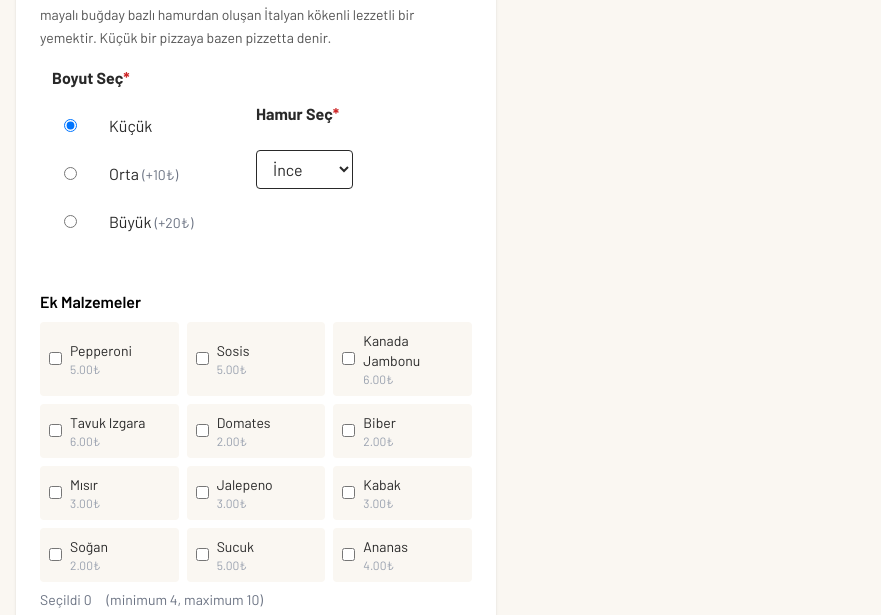
Position Absolute Acı Pizza - E2E (data-cy) › 2) Malzeme seçimi ve fiyat güncellemesi çalışıyor
This screenshot has width=881, height=615.
(page scrolled)
Step 1. Check the checkbox labelled "Pepperoni 5.00₺" → (56, 359), box [49,352,62,365]
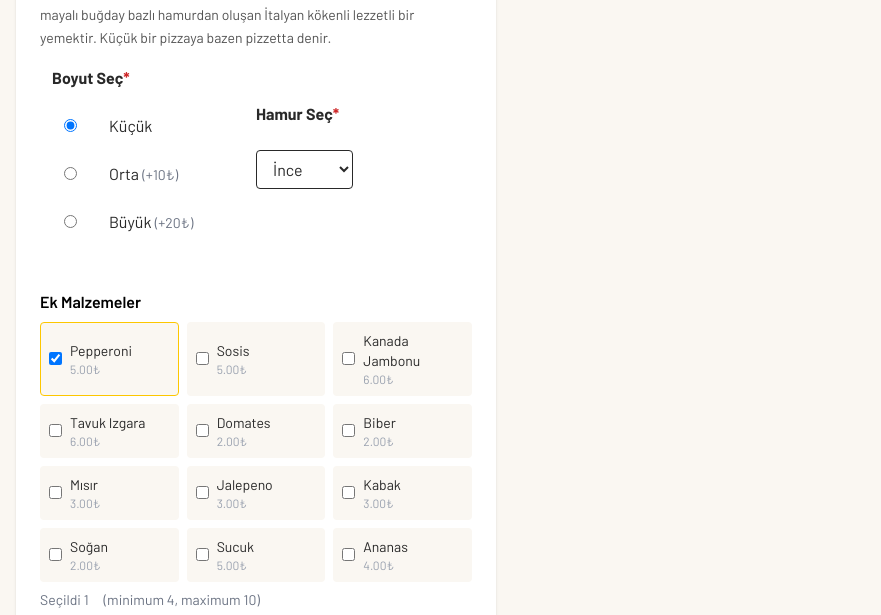
Step 2. Check the checkbox labelled "Sosis 5.00₺" → (203, 359), box [196,352,209,365]
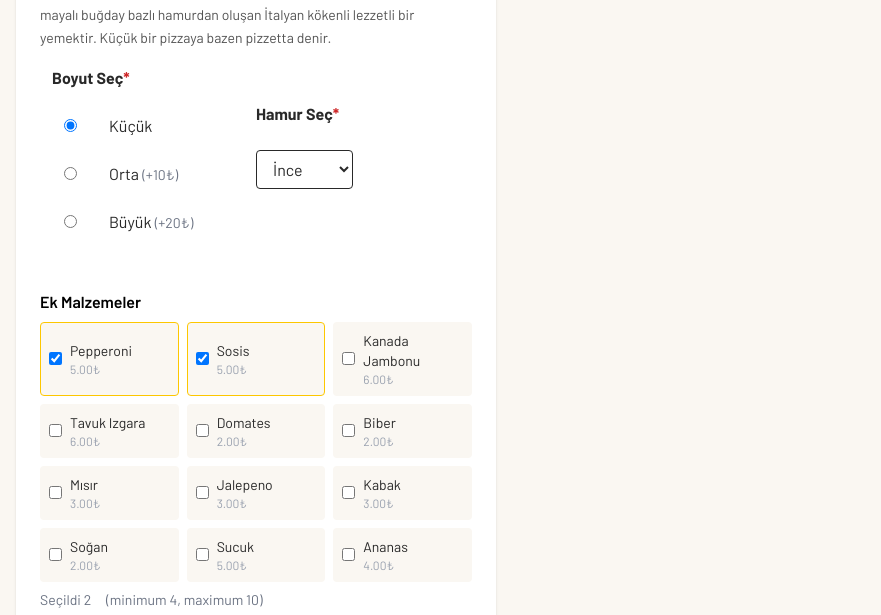
Step 3. Check the checkbox labelled "Kanada Jambonu 6.00₺" → (349, 359), box [342,352,355,365]
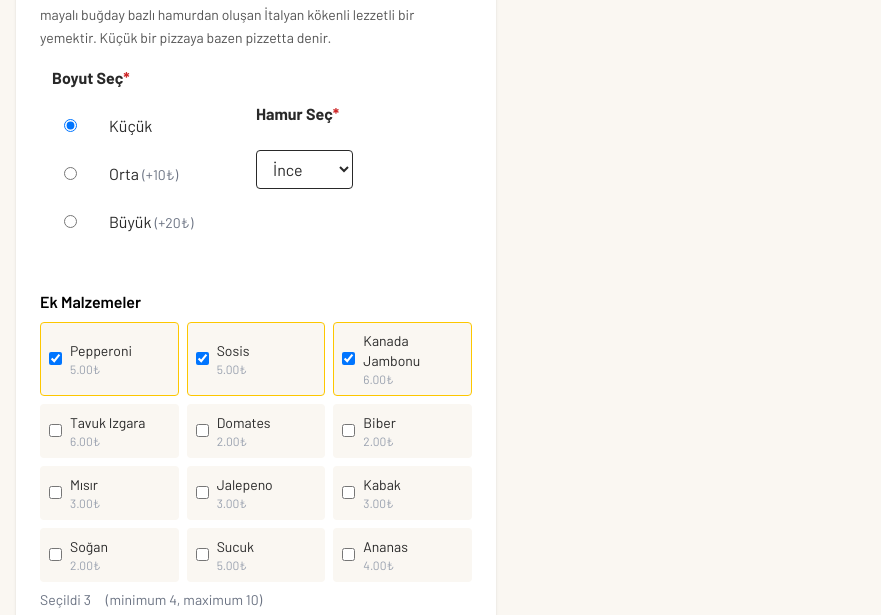
Step 4. Check the checkbox labelled "Tavuk Izgara 6.00₺" → (56, 431), box [49,424,62,437]
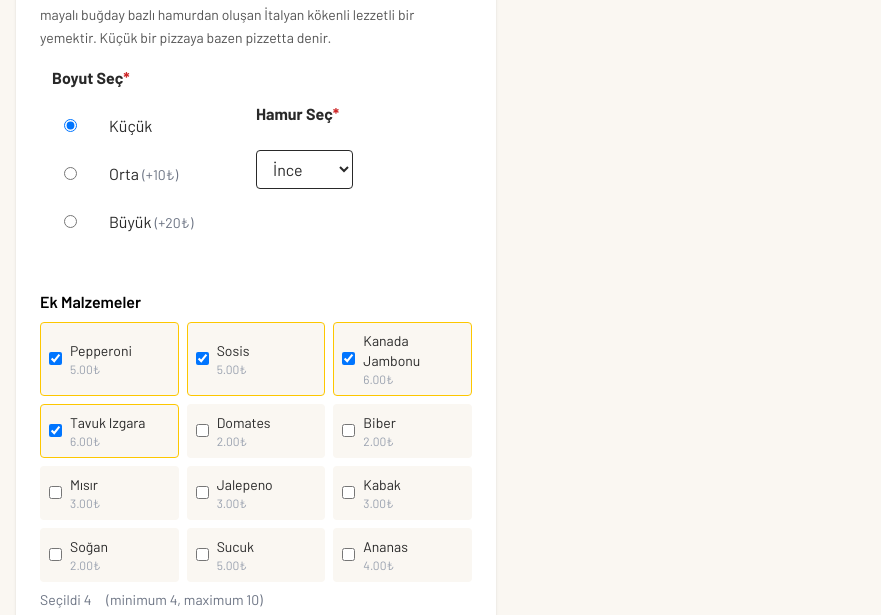
Expected: the text "Seçildi 4" is shown, [40,590,92,608]
